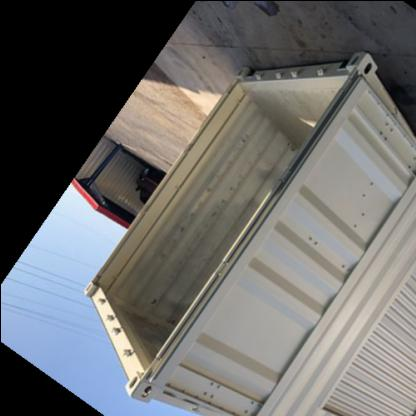Damage: (144, 190, 224, 300)
